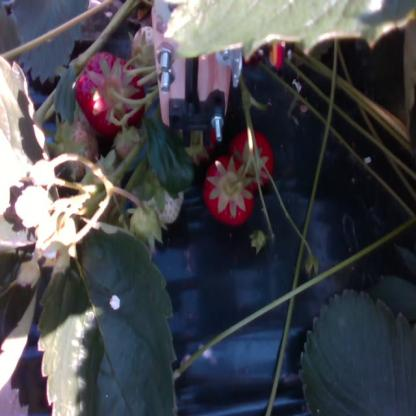ripe: (74, 57, 142, 130), (202, 158, 250, 222), (233, 129, 276, 184)
